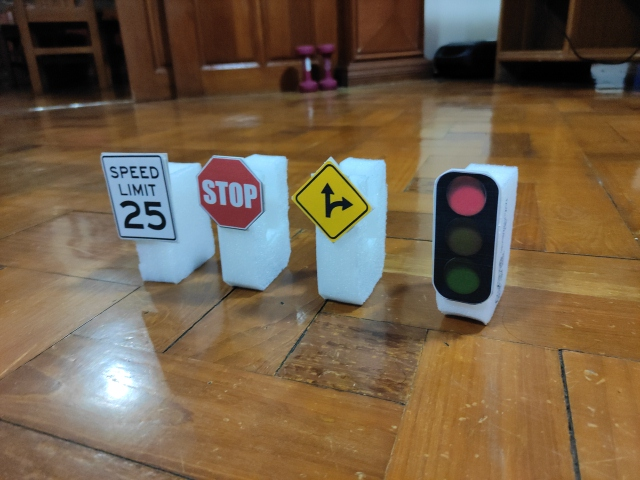Red Traffic Light: (433, 170, 500, 305)
Speed Limit 25: (99, 152, 179, 243)
Stop Sign: (197, 156, 266, 230)
Straight Or Right Sign: (292, 162, 372, 242)
